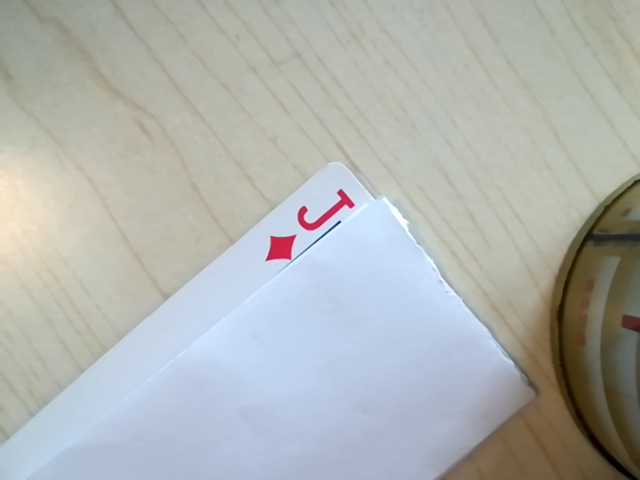fk j: (254, 189, 360, 263)
